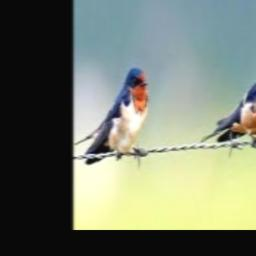Swallow: (75, 67, 149, 165), (201, 59, 256, 146)
